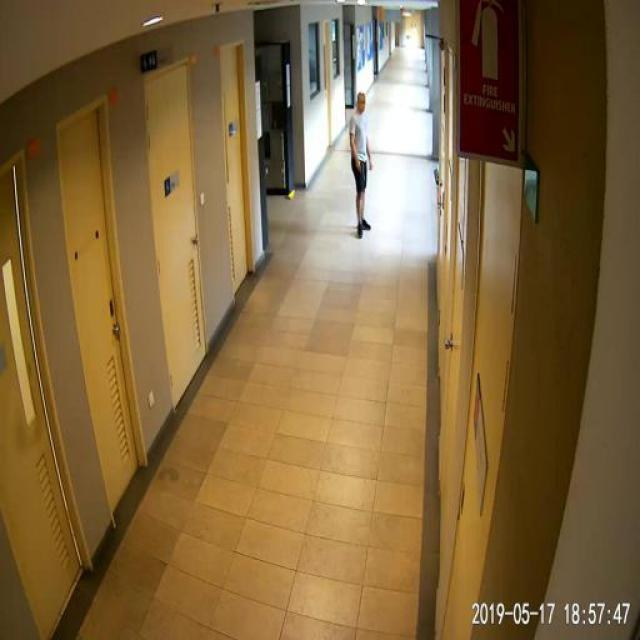weapon: (357, 163, 366, 186)
